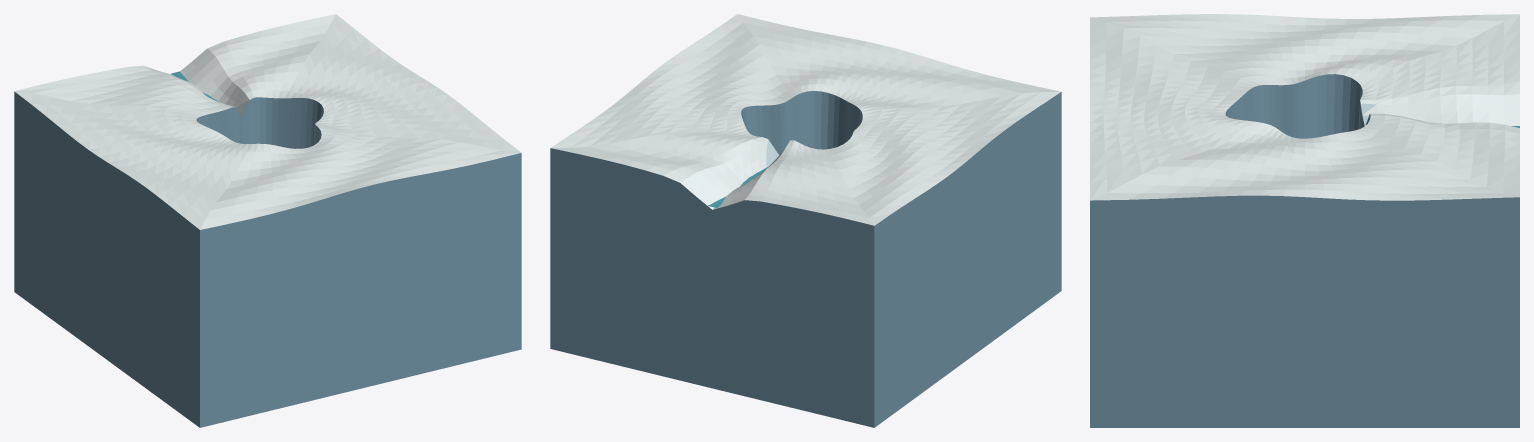
3 views of the same model, side by side, from view 1: azimuth 30°, elevation 25°; view 2: azimuth 150°, elevation 25°; view 3: azimuth 270°, elevation 25° (orthographic). The views are drawn at different scales.
Parts seen in each view (by area): view 1: true_open_upper_moulin_annular_ice_volume; view 2: true_open_upper_moulin_annular_ice_volume; view 3: true_open_upper_moulin_annular_ice_volume.
Part boxes in pixels (box(x1,y1,x2,y2)): true_open_upper_moulin_annular_ice_volume: box(14, 14, 521, 427); true_open_upper_moulin_annular_ice_volume: box(550, 14, 1061, 427); true_open_upper_moulin_annular_ice_volume: box(1090, 14, 1519, 427).
Size of the model in its own units: 20 by 11.93 by 20.
